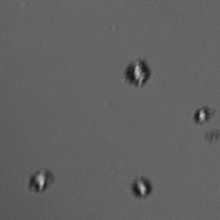Living Cell: (123, 56, 153, 88), (29, 167, 54, 193), (130, 174, 153, 198), (194, 105, 213, 124)
